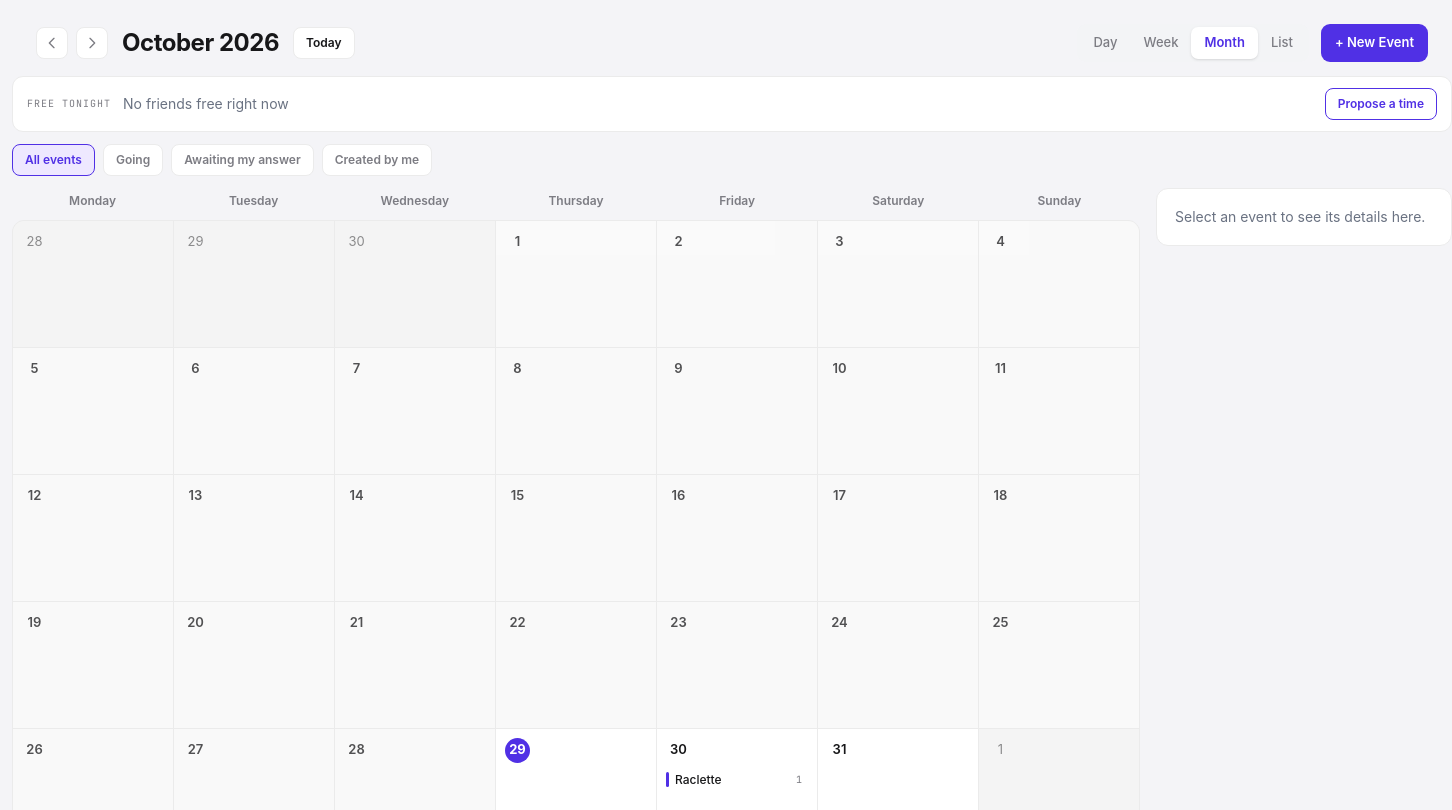
Test: Calendar › opens the peek panel from an agenda row, same as from the grid
The image size is (1452, 810).
Click the button "List": x=1282, y=43 left=1258, top=27, right=1306, bottom=58
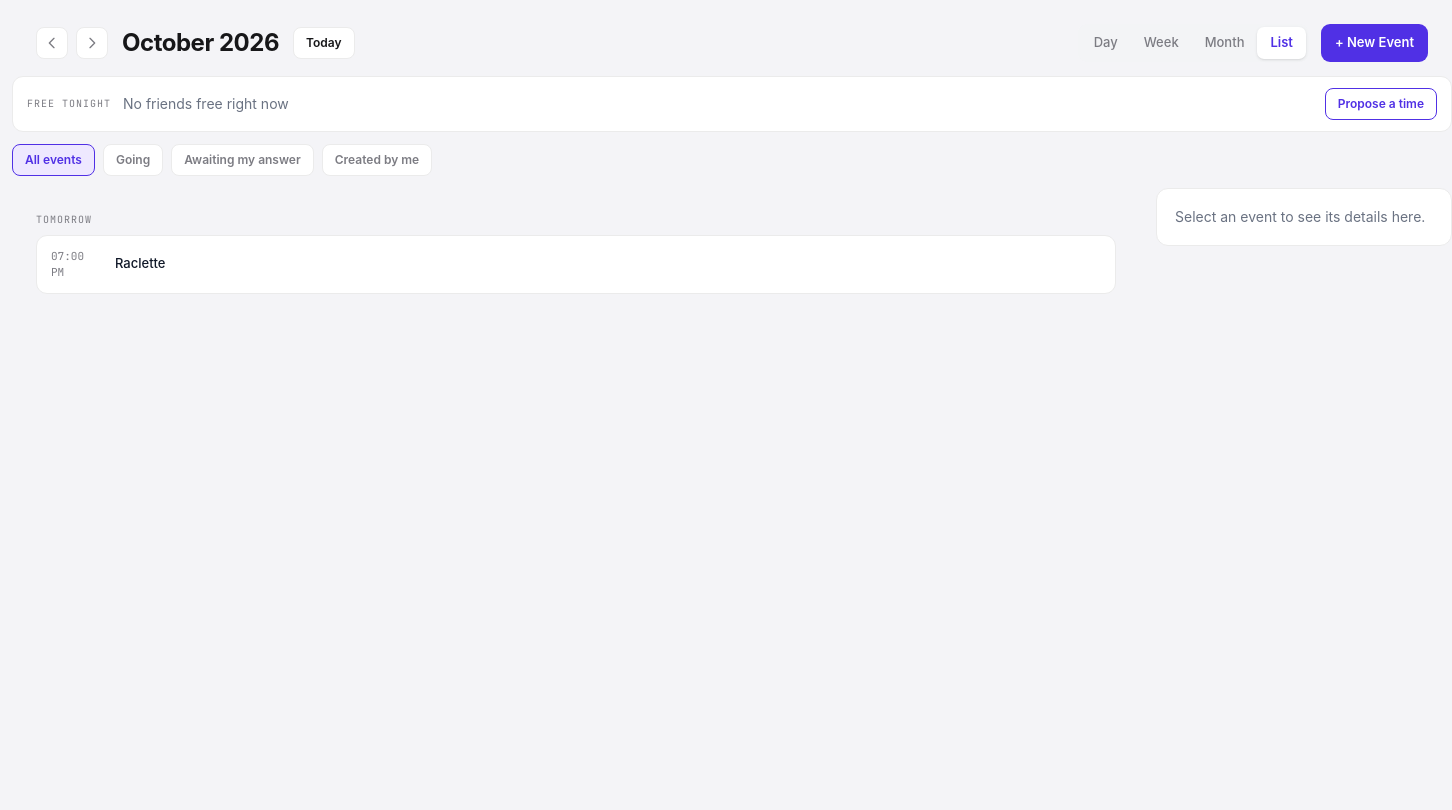
Click the text "Raclette": x=140, y=263 left=115, top=255, right=166, bottom=271
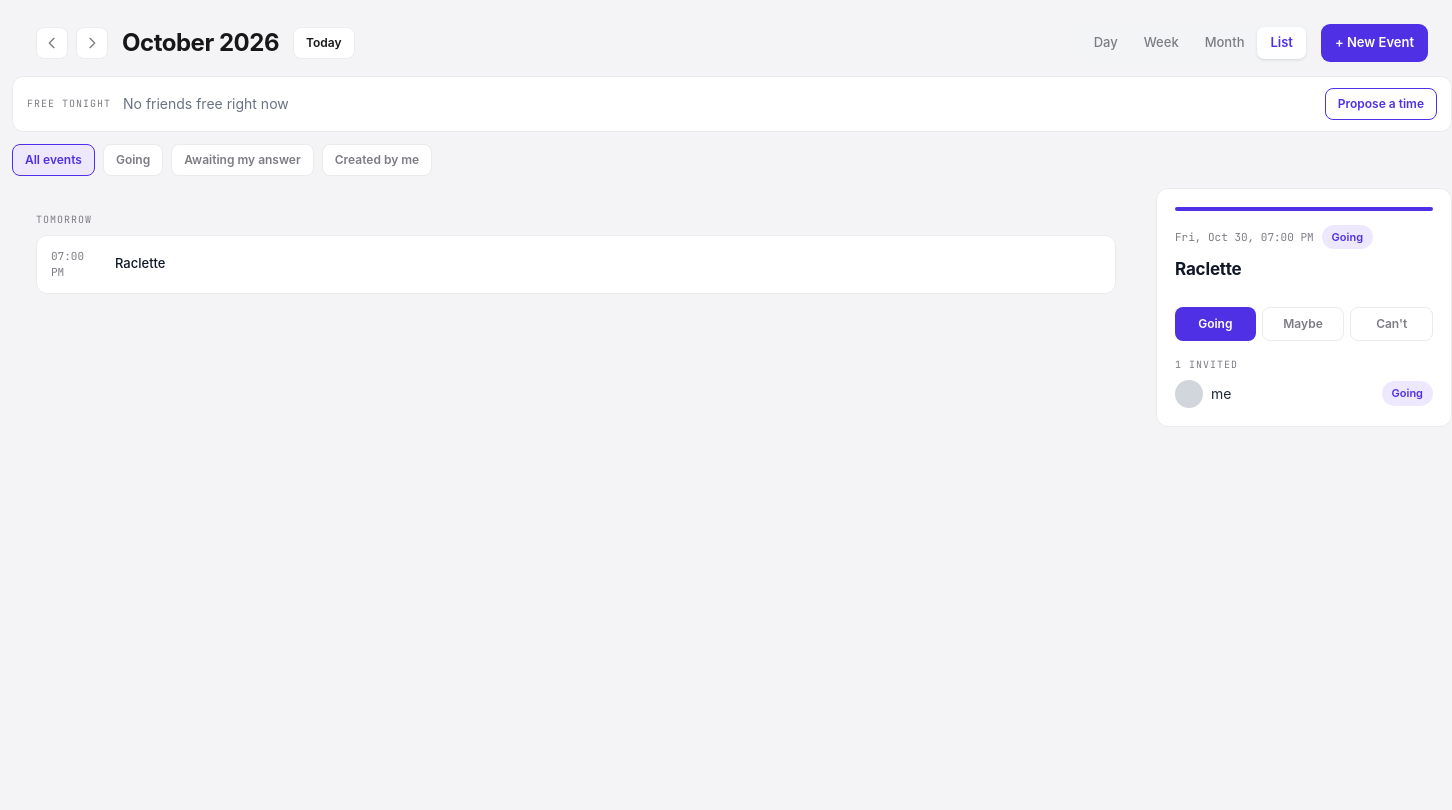
Check: the text "1 invited" is shown, box left=1175, top=358, right=1238, bottom=370
